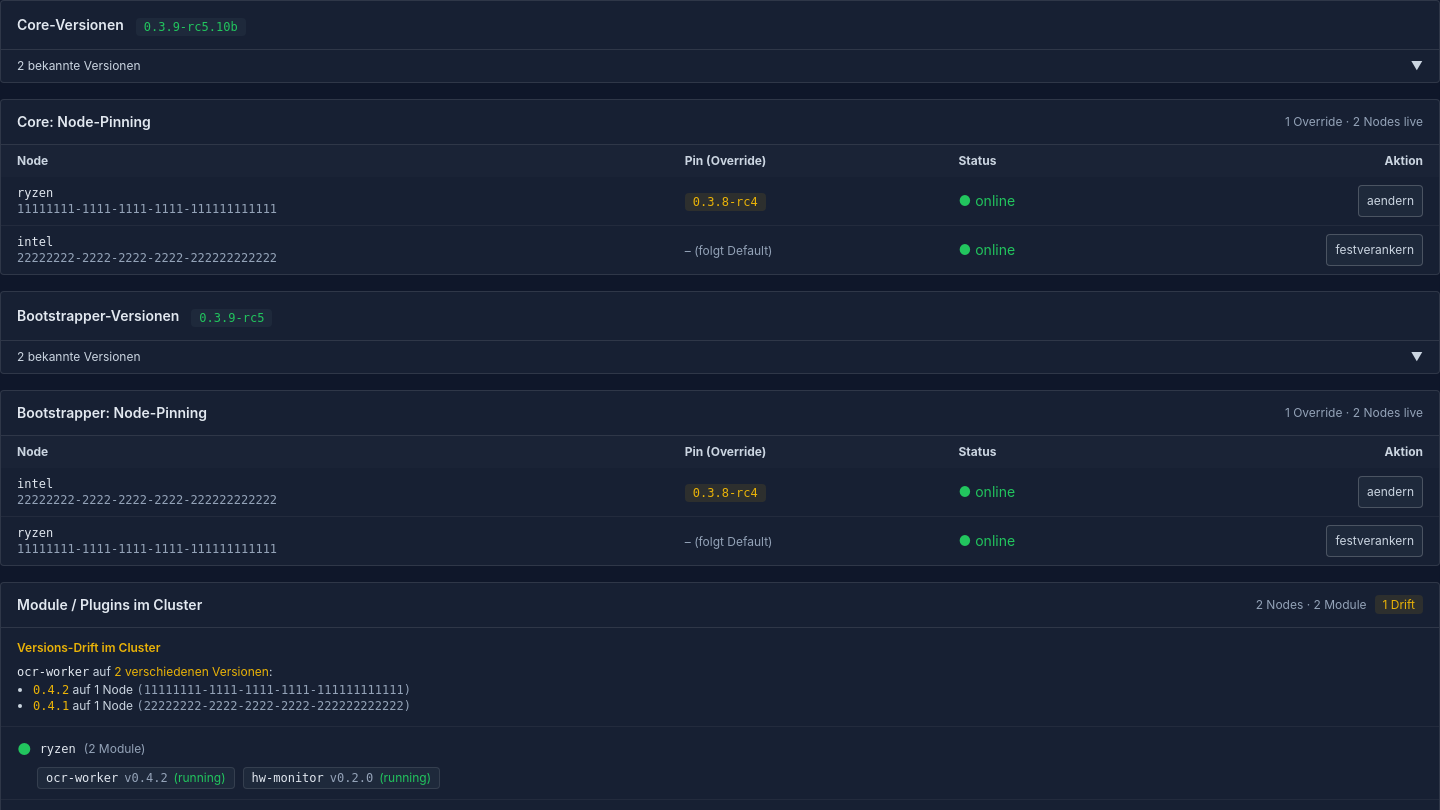
ClusterIntentSection — Bootstrapper entsperrt › Bootstrapper-Default-Tausch ruft getManifestDefaultImpact('bootstrapper', ...)
The width and height of the screenshot is (1440, 810).
Click the button with test id "versions-toggle-bootstrapper-versionen". click: (75, 356)
box: [1, 341, 1439, 373]
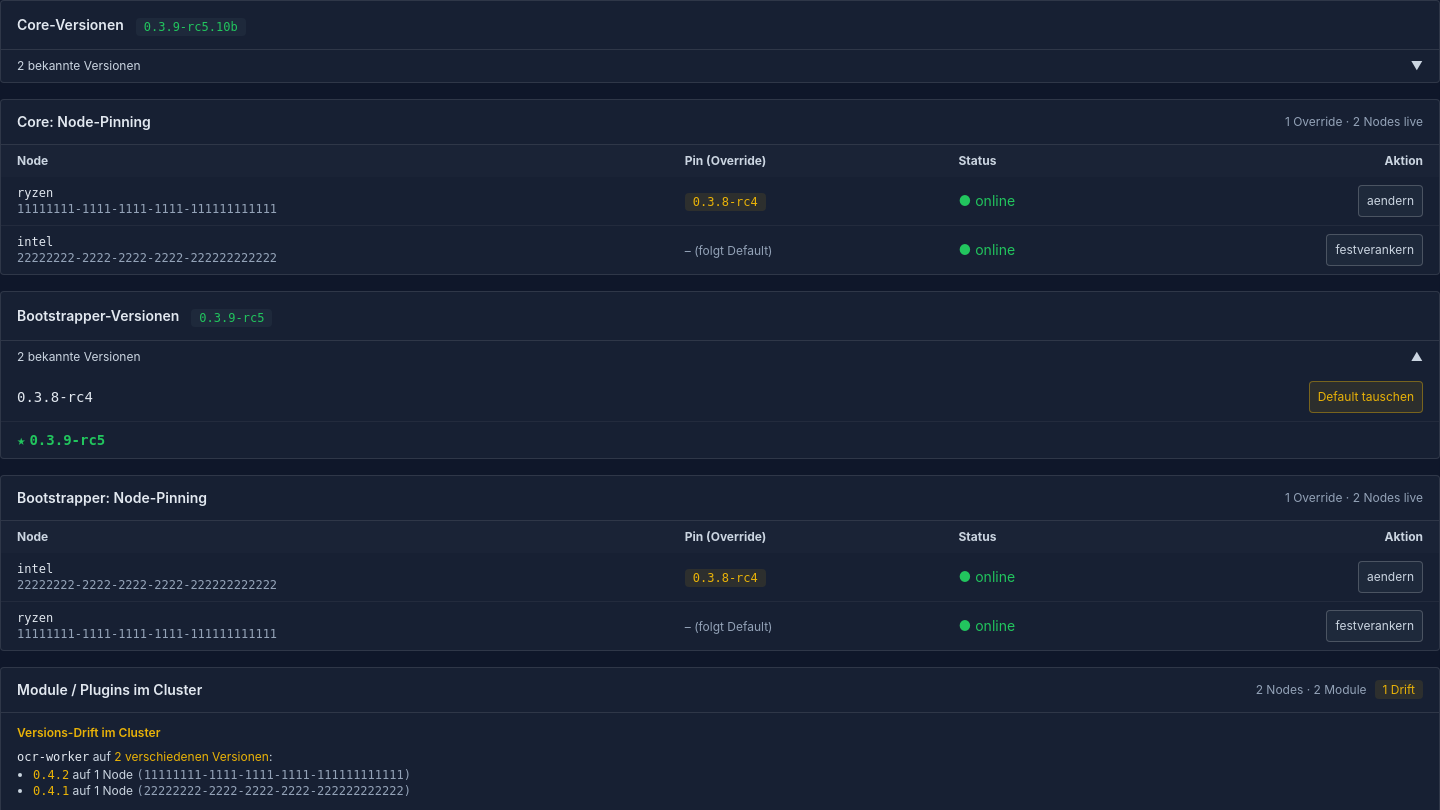
Click the button with test id "versions-set-default-0.3.8-rc4". click: (1366, 397)
box: [1309, 381, 1423, 413]
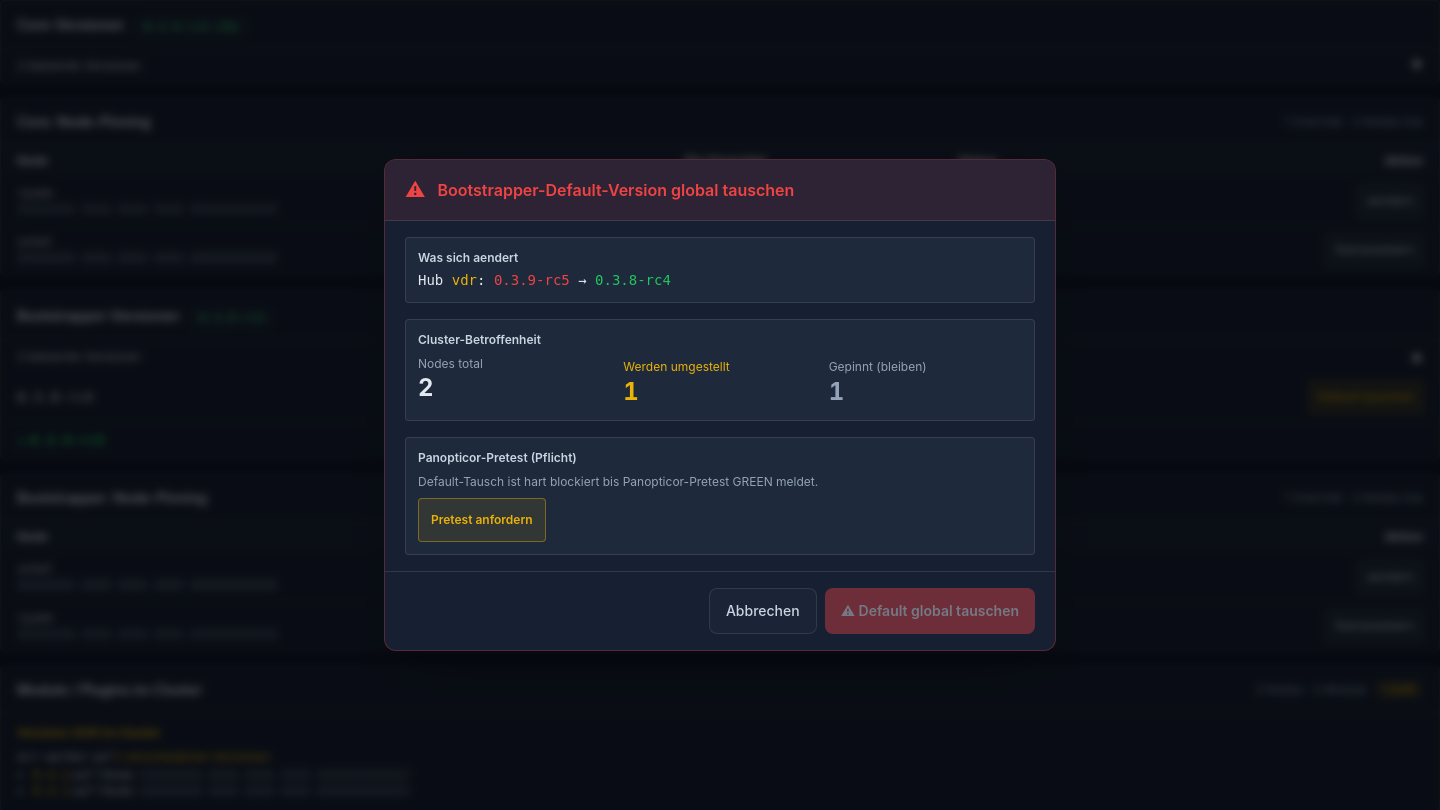
Check: the element with test id "default-flip-impact" is shown, box [405, 319, 1035, 421]
Check: the text "Bootstrapper-Default-Version global tauschen" is shown, box [438, 178, 794, 202]
